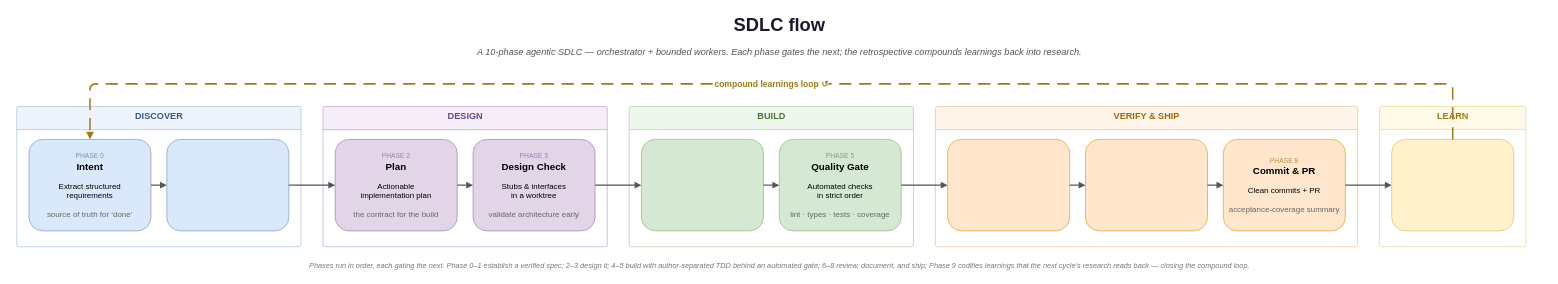
Some shapes in this 1558 by 284 pixel diagram are drawn without their labels. The shapes that lost their labels are listed below. From the top down, each one's centre as x and y in pixels, then its label:
At pixel 227 185: "PHASE 1 Research Verified durable spec (R1–R5) spec + glossary + ADRs".
At pixel 702 185: "PHASE 4 Implement Author-separated TDD tests first, then code".
At pixel 1008 185: "PHASE 6 Review Structured multi-lens review of the full diff".
At pixel 1146 185: "PHASE 7 Documentation Update affected docs a gate before shipping".
At pixel 1452 185: "PHASE 9 Retrospective Capture metrics & learnings feeds the compound loop".
